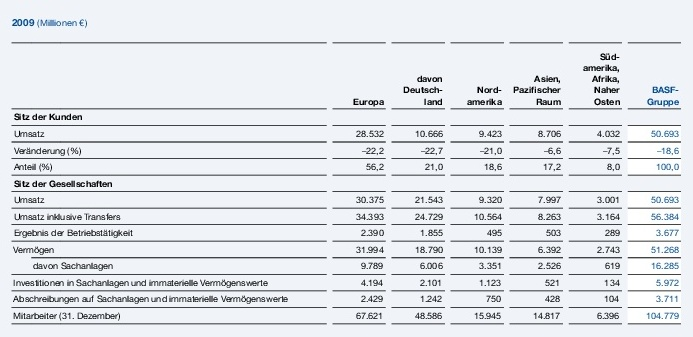table: (0, 0, 693, 337)
